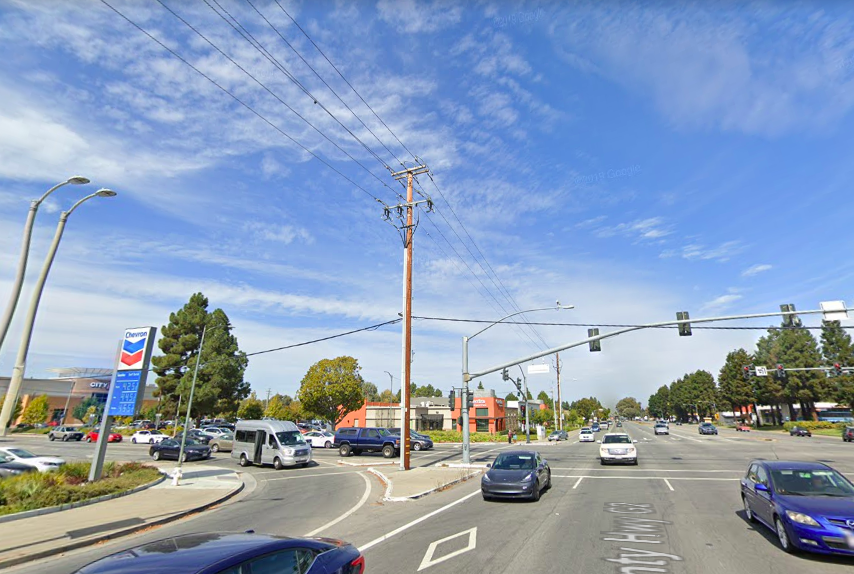utility_pole: (371, 150, 441, 247)
